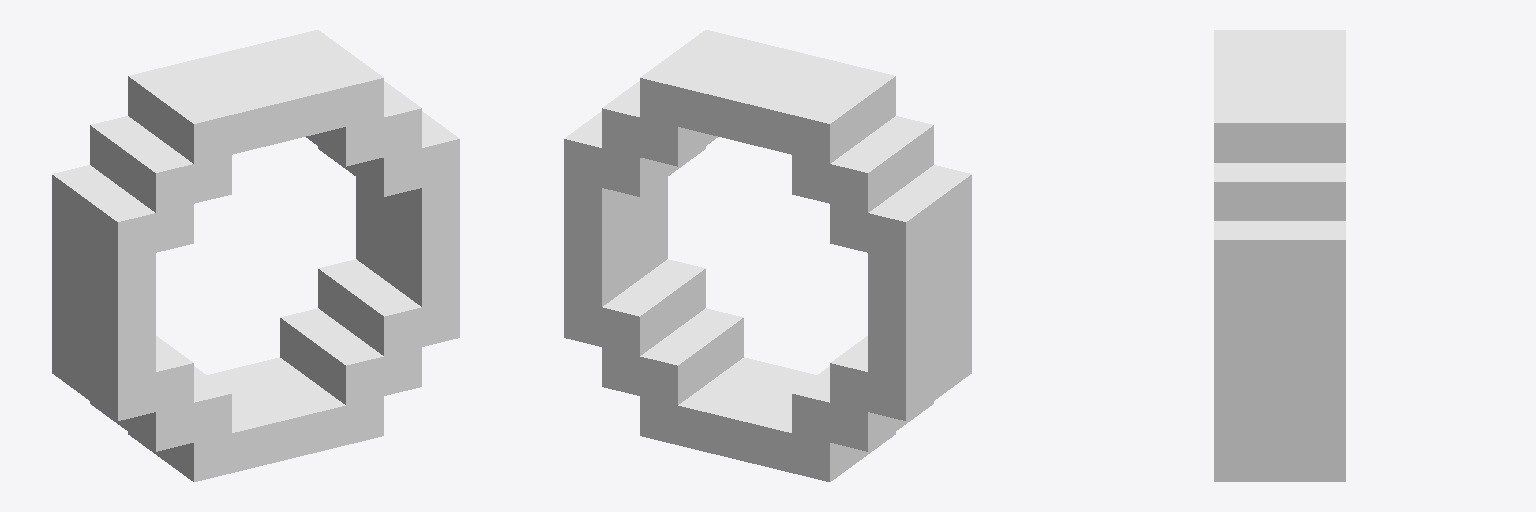
Rendered from EndLocation.obj.
3 renders of one model, left to right at view 1: azimuth 30°, elevation 25°; view 2: azimuth 150°, elevation 25°; view 3: azimuth 270°, elevation 25°, orthographic.
Visible parts, largest first — view 1: EndLocation; view 2: EndLocation; view 3: EndLocation.
Part boxes in pixels (x1,y1,x2,y2): EndLocation: (52, 30, 459, 481); EndLocation: (564, 30, 971, 481); EndLocation: (1214, 30, 1345, 481).
Size of the model in its own units: 9 by 9 by 3.